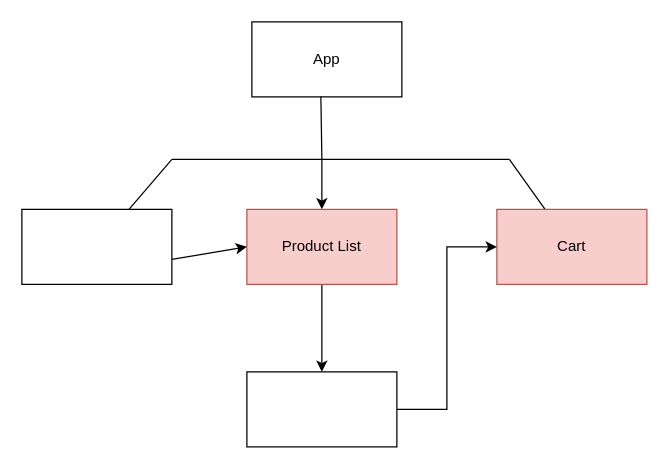
This 669x469 diagram has some shape labels left out. Here are the shapes that lost their labels. From the top down, the centre of each, then its label:
(96,246): Filter
(321,409): Product Card
